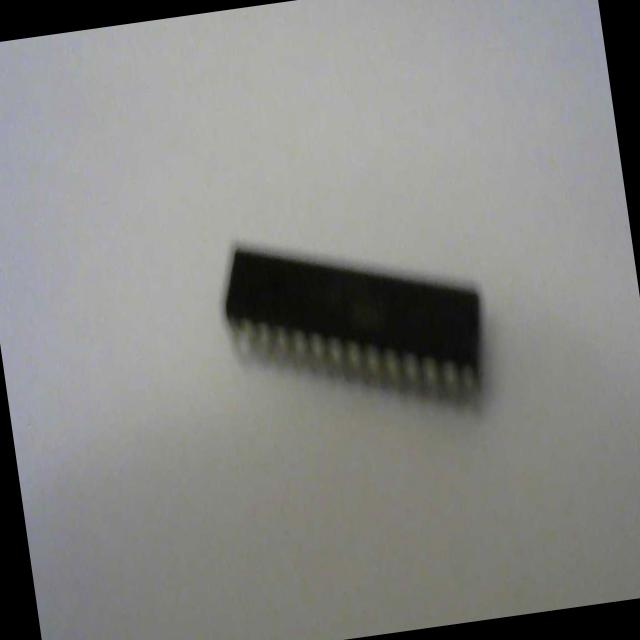atmega: (210, 205, 500, 447)
